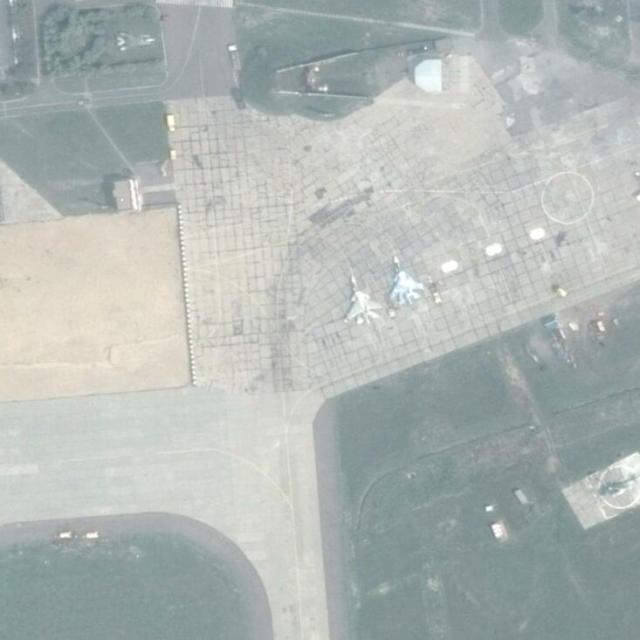fighter jet: (385, 257, 424, 308), (340, 276, 377, 323)
